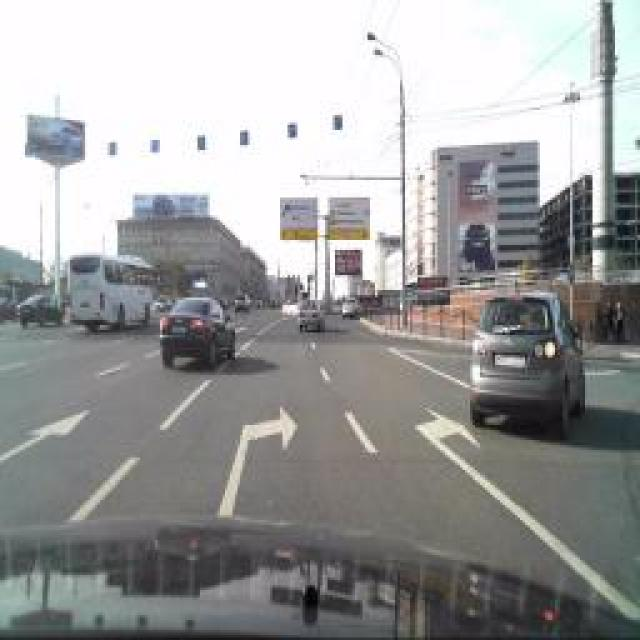sign: (332, 114, 342, 131), (196, 136, 206, 152), (24, 142, 34, 156), (65, 142, 75, 156), (288, 124, 298, 138)
